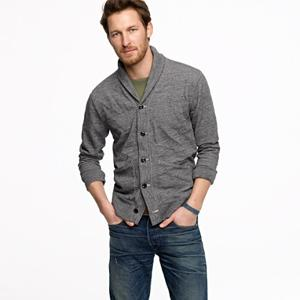S_cardigan sweater: (72, 52, 244, 227)
